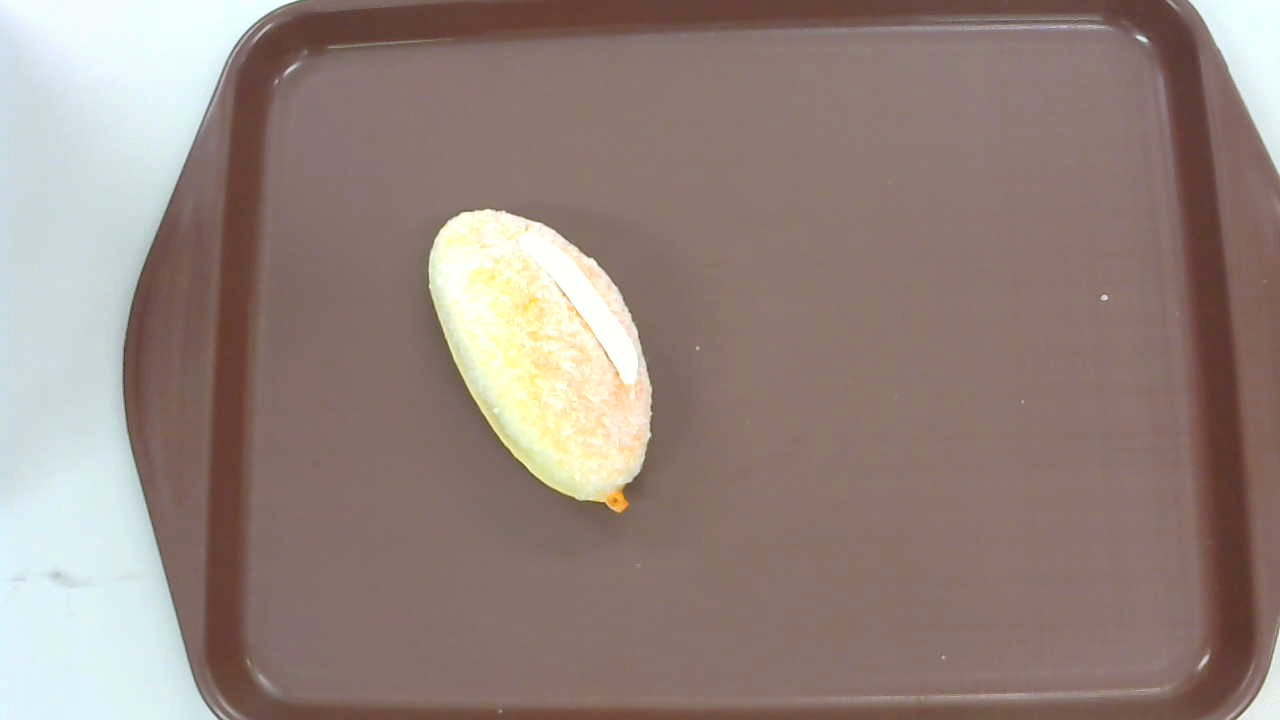coconut: (428, 208, 653, 513)
